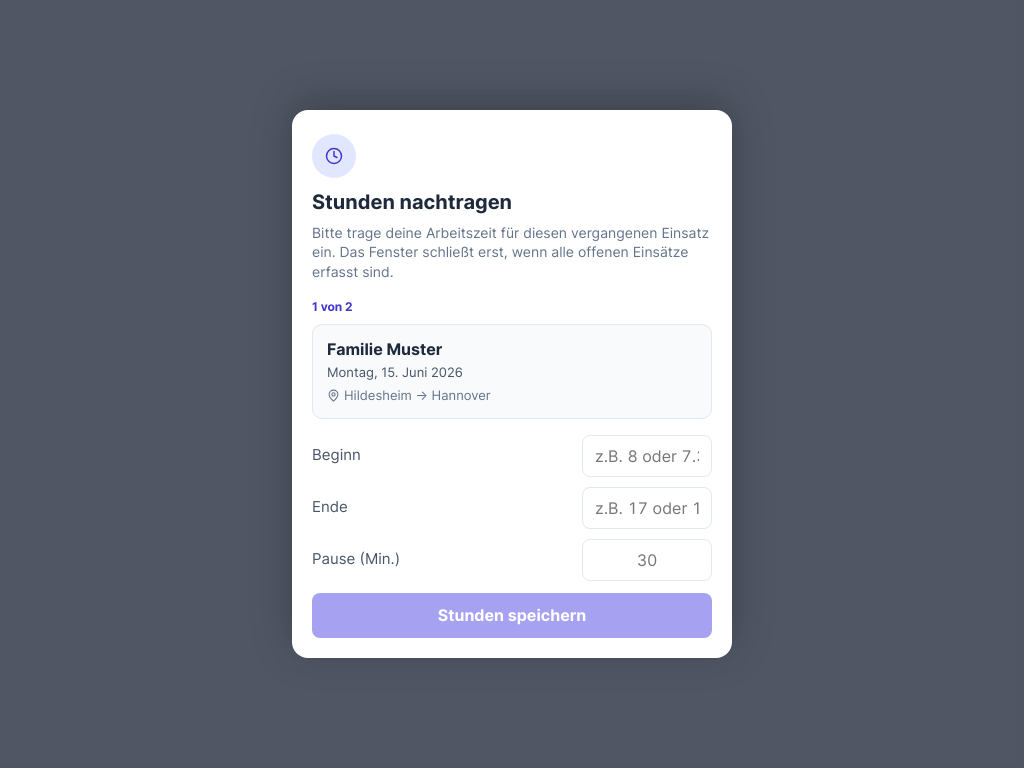
Scenario: PendingHoursModal — overdue hours prompt › advances through multiple pending assignments before closing
This screenshot has width=1024, height=768.
Expected: the text "Familie Muster" is shown, [327, 339, 442, 359]
// log the first (job)
Type "8" into the field labelled "Beginn" at (647, 456), box [582, 435, 712, 477]
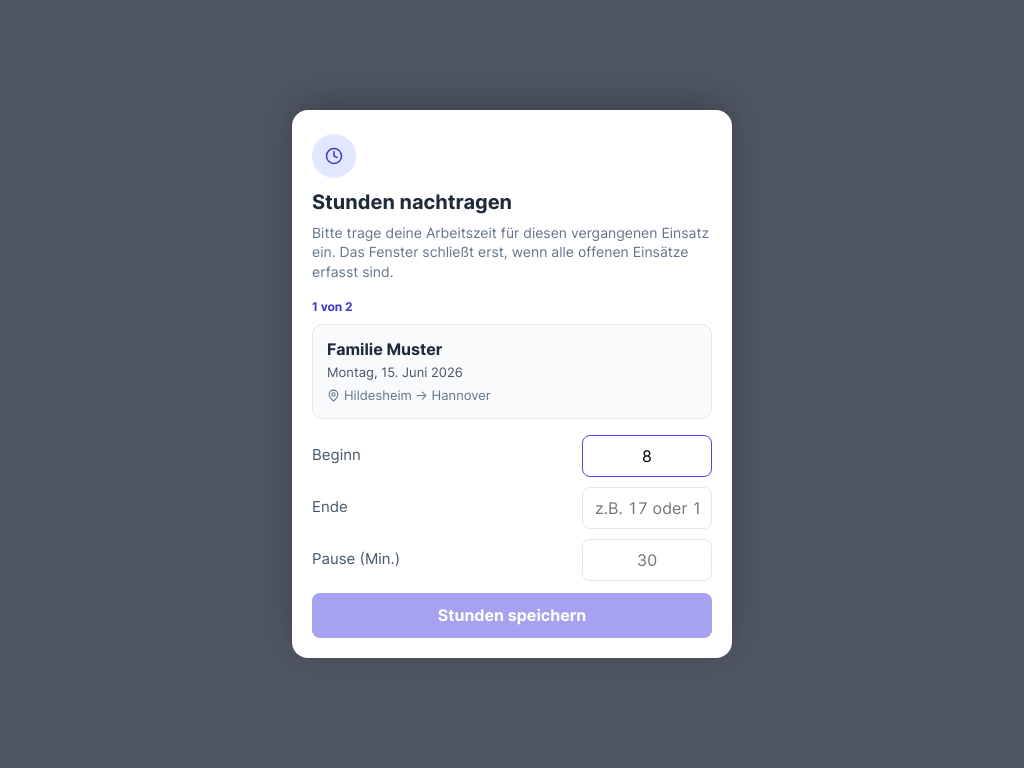
Type "16" into the field labelled "Ende" at (647, 508), box [582, 487, 712, 529]
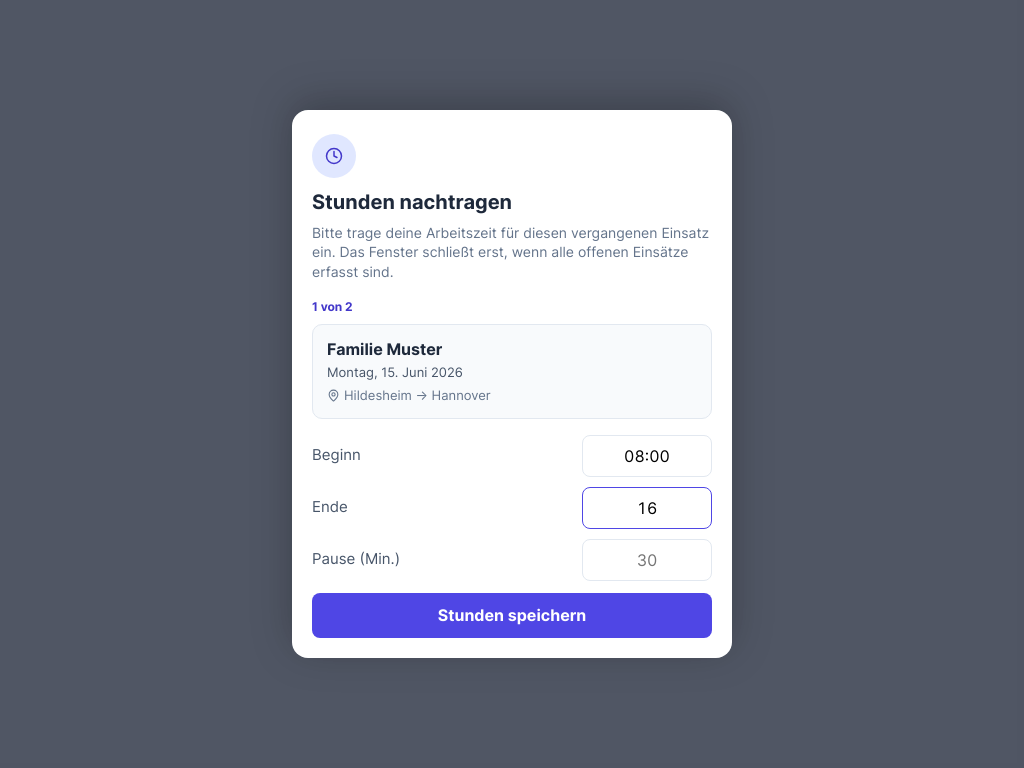
Click the button "Stunden speichern" at (512, 615), box [312, 593, 712, 638]
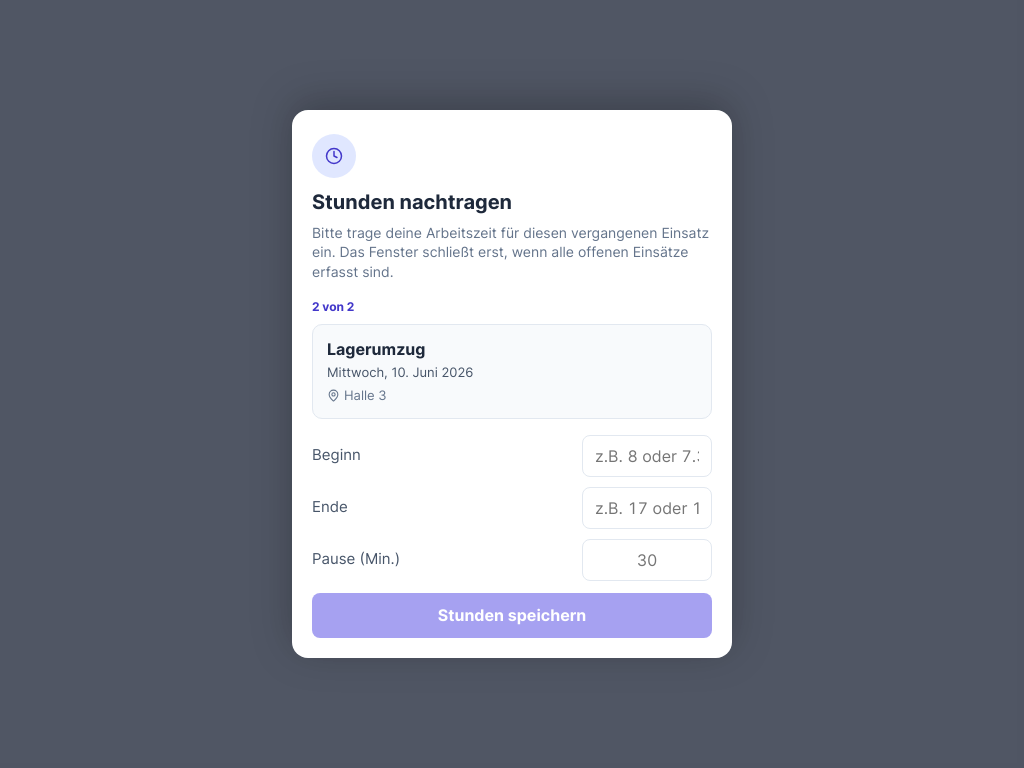
Now the text "Lagerumzug" is shown, box [327, 339, 425, 359]
